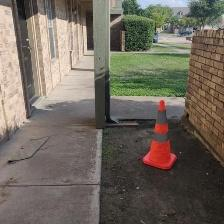traffic cone: (142, 100, 178, 171)
